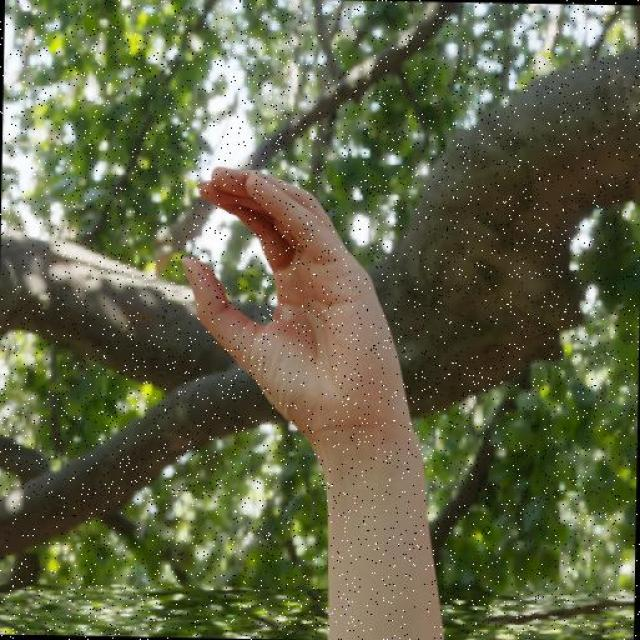C: (179, 161, 414, 450)
